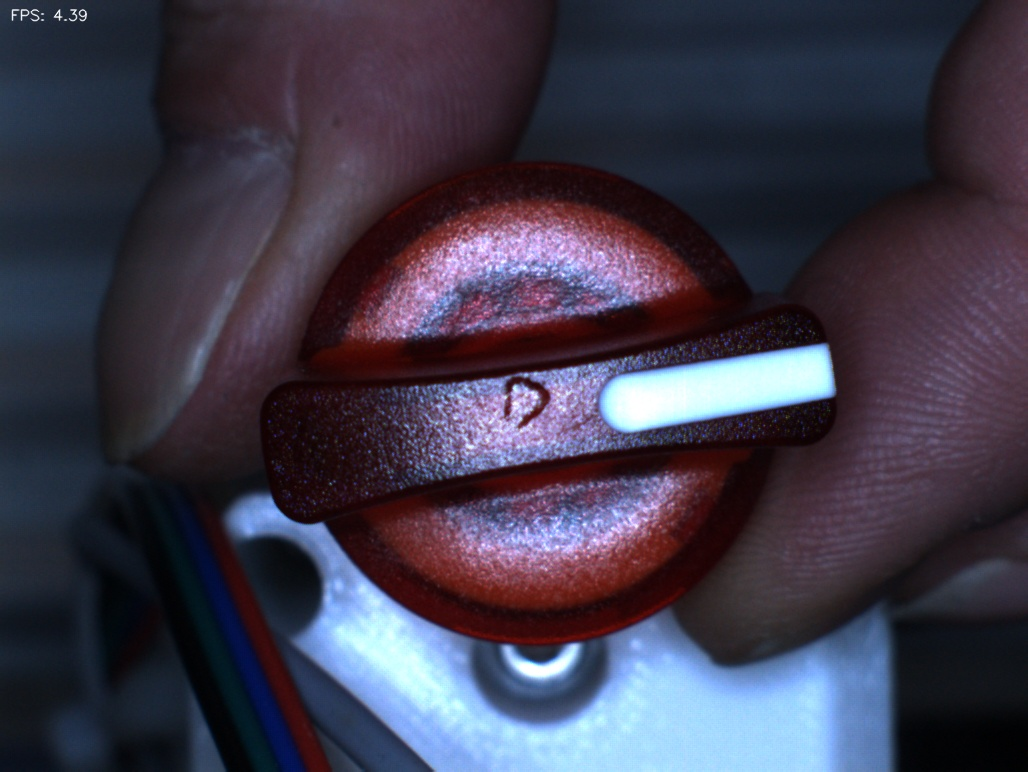Choc: (484, 358, 561, 435)
